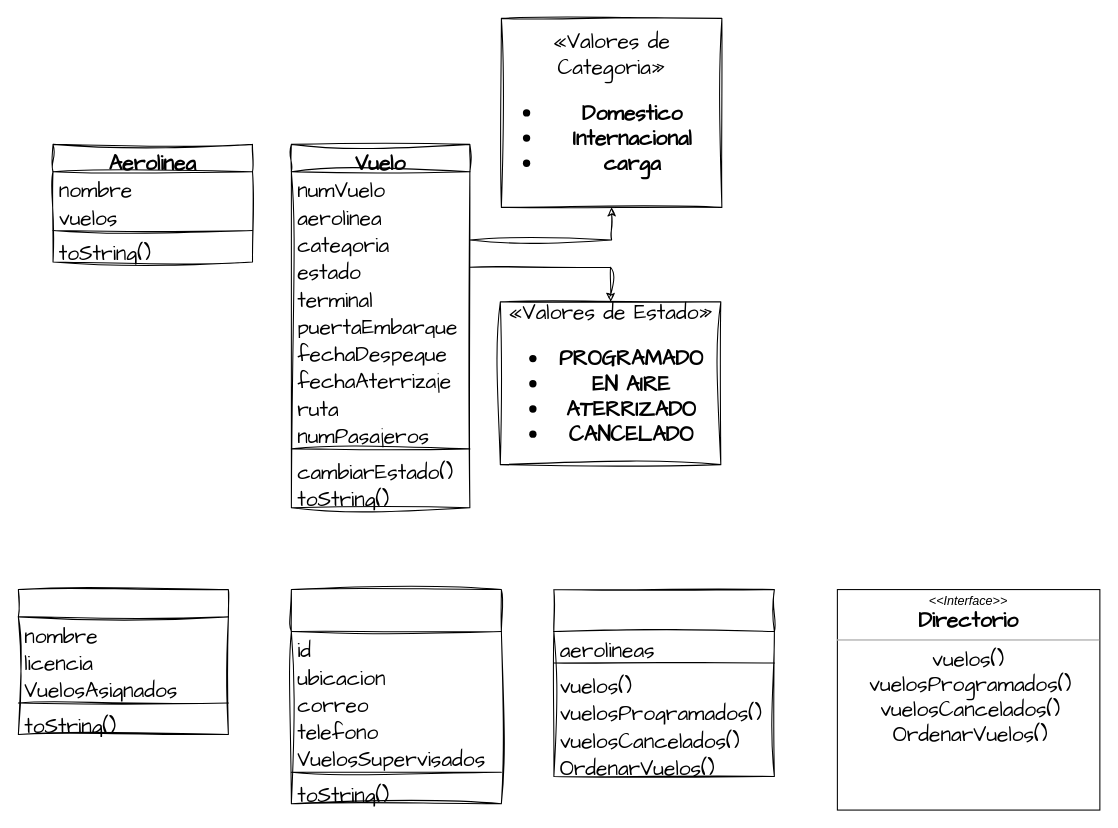
Some shapes in this 1118 by 828 pixel diagram are drawn without their labels. The shapes that lost their labels are listed below. From the top down, each one's box as (x1, y1, x2, y2) in pixels, then its label:
(17, 589, 228, 734): Piloto
(290, 589, 501, 804): Torre
(553, 589, 774, 776): Directorio
